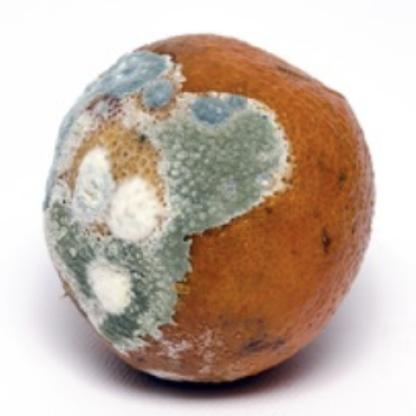rotten: (44, 32, 374, 387)
